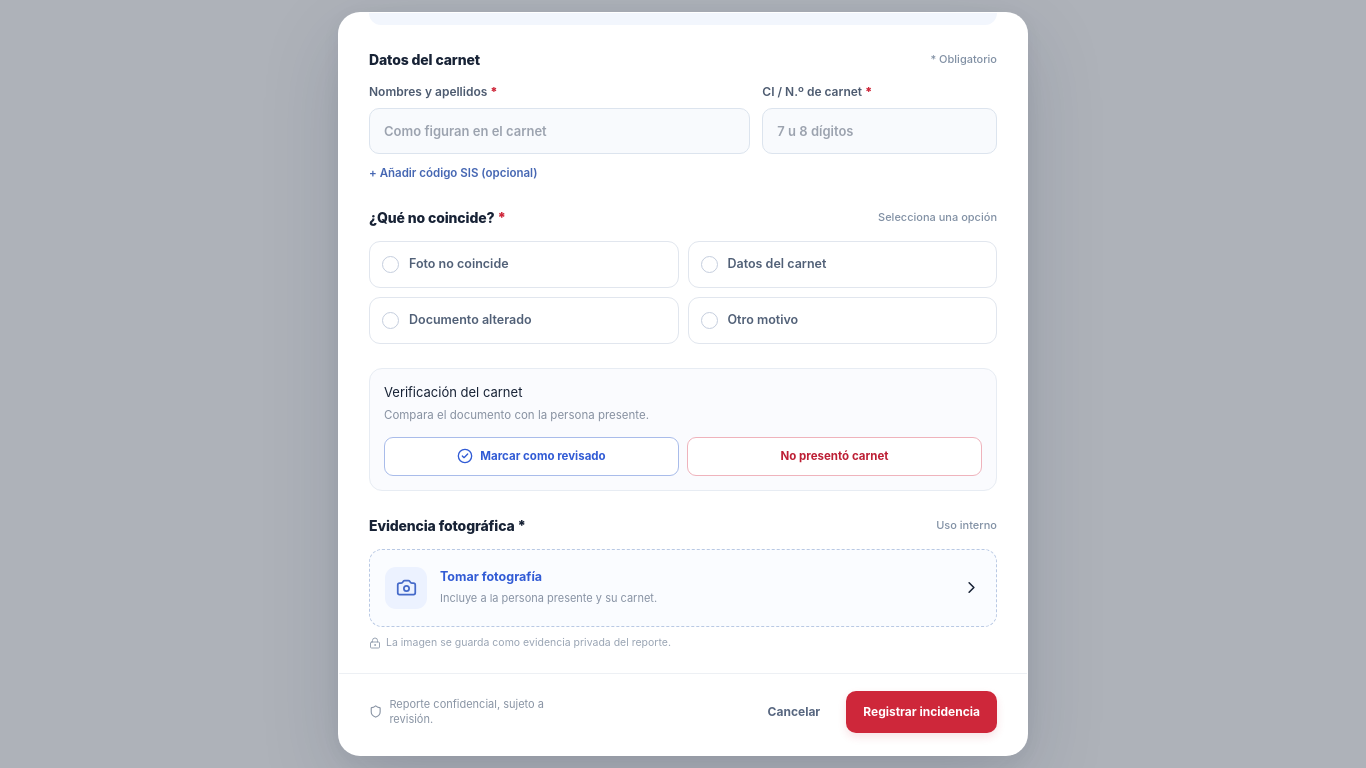
it: limpia el error de carnet al revisarlo y los errores de campos al corregirlos
(page scrolled)
Click the button "Registrar incidencia" at (922, 712), box [846,690,997,732]
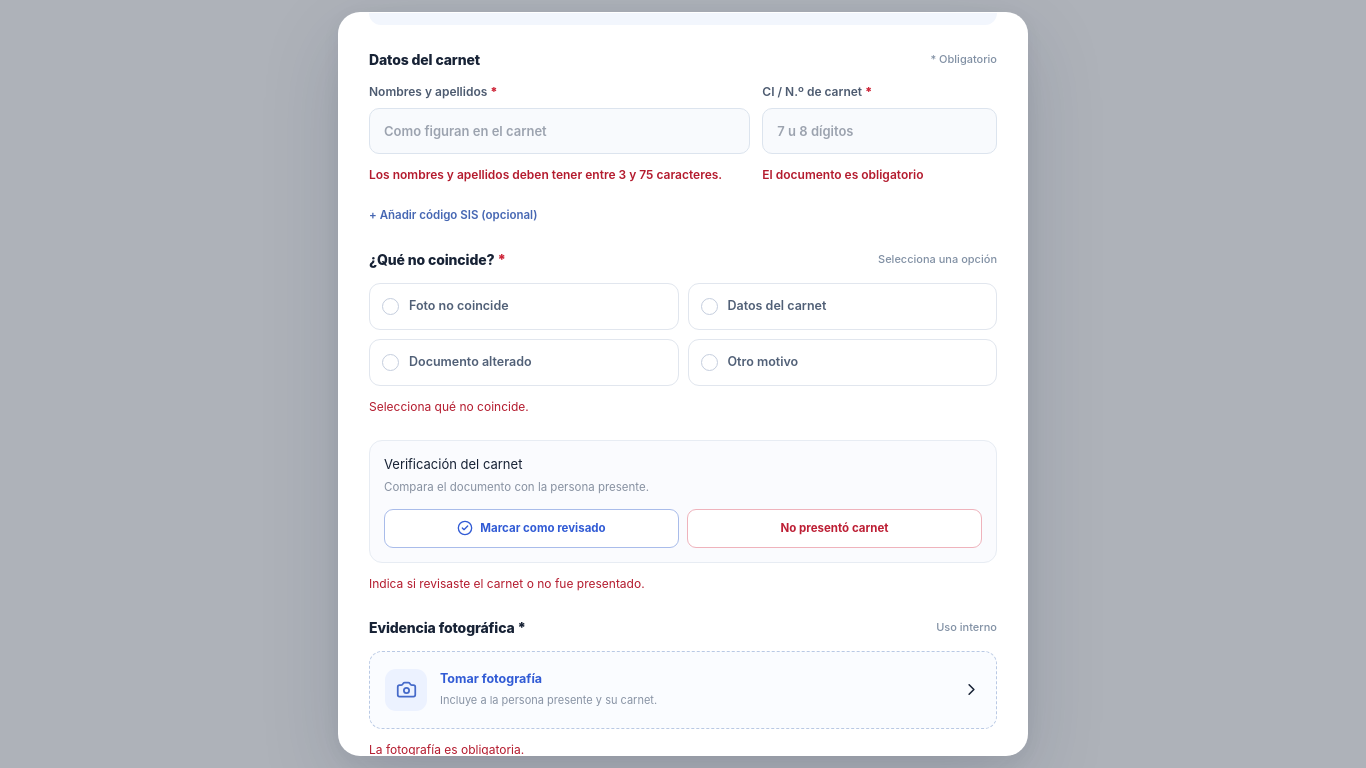
Result: the text "Indica si revisaste el carnet o no fue presentado." is shown at [369,576,645,591]
Click the button "Marcar como revisado" at (532, 528), box [384,508,679,548]
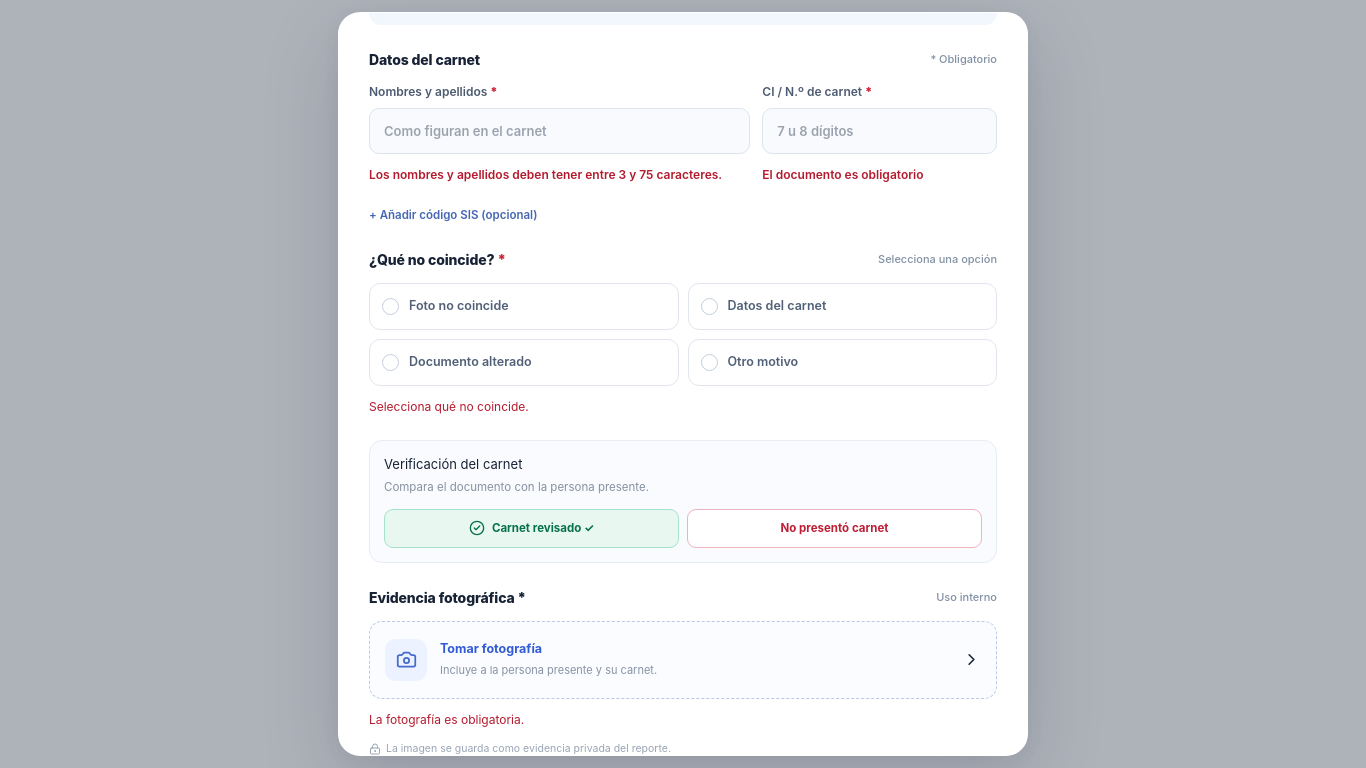
Result: the text "Indica si revisaste el carnet o no fue presentado." is gone
Type "Ana Pérez" into the field labelled "Nombres y apellidos" at (560, 131), box [369,108,750,154]
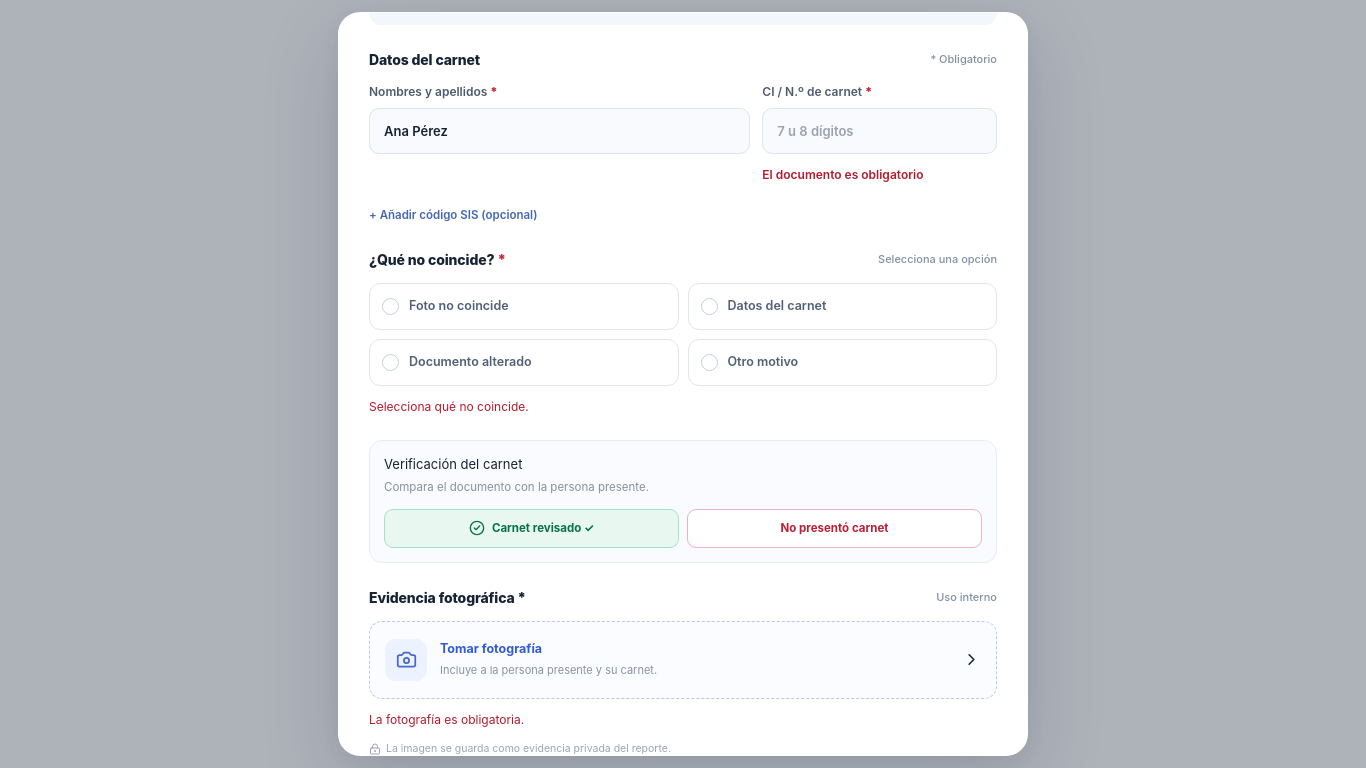
Result: the text "Los nombres y apellidos deben tener entre 3 y 75 caracteres." is gone
